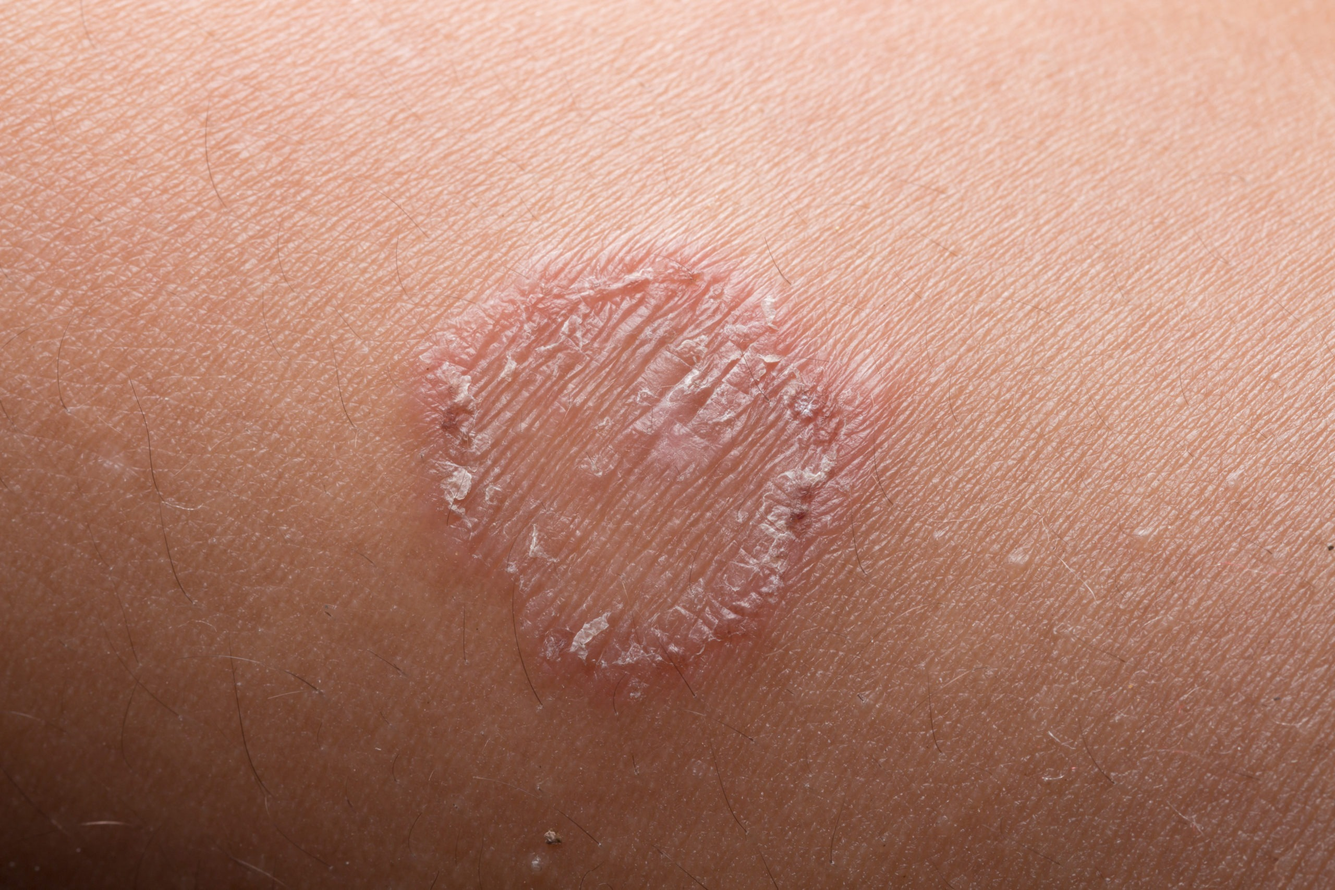Ringworm: (396, 185, 863, 706)
